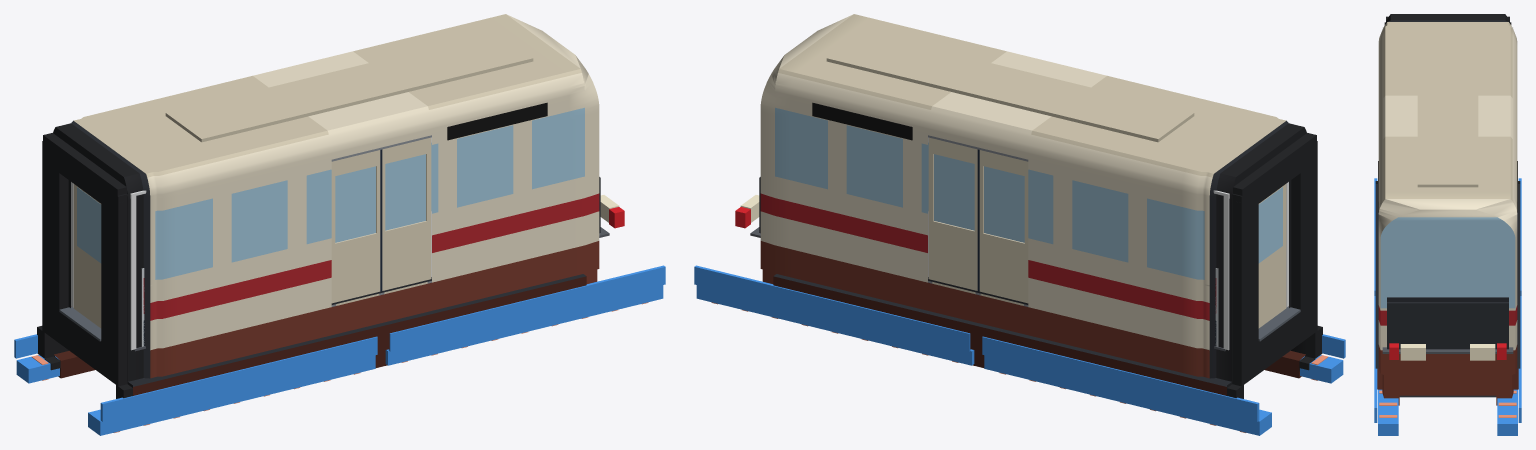
Rendered from birmingham_front.obj.
The picture shows the model from 3 angles, left to right: view 1: azimuth 30°, elevation 25°; view 2: azimuth 150°, elevation 25°; view 3: azimuth 270°, elevation 25°; orthographic projection. The views are drawn at different scales.
Visible parts, largest first — view 1: SHELL, SHELL_diaphragm, SHELL_roof, BOGEY_REAR, BOGEY_FRONT, EXTERNAL_DOOR_3_CG_DR1_TOGGLE_TL_-0.74_X, EXTERNAL_DOOR_4_CG_DR1_TOGGLE_TL_0.74_X, CONNECTING_DOOR_1_CG_CR_TOGGLE_TL_0.98_Z, SHELL_end, SHELL_sign; view 2: SHELL, SHELL_diaphragm, SHELL_roof, BOGEY_REAR, BOGEY_FRONT, EXTERNAL_DOOR_6_CG_DL1_TOGGLE_TL_-0.74_X, EXTERNAL_DOOR_7_CG_DL1_TOGGLE_TL_0.74_X, CONNECTING_DOOR_1_CG_CR_TOGGLE_TL_0.98_Z, SHELL_end, SHELL_sign; view 3: SHELL, SHELL_roof, SHELL_desk, BOGEY_FRONT, HEADLIGHT_1, BOGEY_REAR, SHELL_lights, SHELL_floor.
Boxes of the visible parts, x1=… form: SHELL: x1=53, y1=14, x2=599, y2=395; SHELL_diaphragm: x1=37, y1=133, x2=132, y2=398; SHELL_roof: x1=165, y1=32, x2=533, y2=142; BOGEY_REAR: x1=14, y1=334, x2=377, y2=435; BOGEY_FRONT: x1=385, y1=265, x2=665, y2=365; EXTERNAL_DOOR_3_CG_DR1_TOGGLE_TL_-0.74_X: x1=331, y1=149, x2=382, y2=303; EXTERNAL_DOOR_4_CG_DR1_TOGGLE_TL_0.74_X: x1=382, y1=137, x2=431, y2=290; CONNECTING_DOOR_1_CG_CR_TOGGLE_TL_0.98_Z: x1=73, y1=184, x2=101, y2=328; SHELL_end: x1=71, y1=182, x2=136, y2=350; SHELL_sign: x1=447, y1=102, x2=547, y2=140; SHELL: x1=760, y1=14, x2=1306, y2=395; SHELL_diaphragm: x1=1227, y1=133, x2=1322, y2=398; SHELL_roof: x1=826, y1=32, x2=1194, y2=142; BOGEY_REAR: x1=982, y1=334, x2=1345, y2=435; BOGEY_FRONT: x1=694, y1=265, x2=974, y2=365; EXTERNAL_DOOR_6_CG_DL1_TOGGLE_TL_-0.74_X: x1=977, y1=149, x2=1028, y2=303; EXTERNAL_DOOR_7_CG_DL1_TOGGLE_TL_0.74_X: x1=928, y1=137, x2=977, y2=290; CONNECTING_DOOR_1_CG_CR_TOGGLE_TL_0.98_Z: x1=1258, y1=184, x2=1286, y2=328; SHELL_end: x1=1223, y1=182, x2=1288, y2=350; SHELL_sign: x1=812, y1=102, x2=912, y2=140; SHELL: x1=1375, y1=14, x2=1520, y2=405; SHELL_roof: x1=1417, y1=49, x2=1478, y2=187; SHELL_desk: x1=1387, y1=297, x2=1508, y2=349; BOGEY_FRONT: x1=1374, y1=296, x2=1521, y2=435; HEADLIGHT_1: x1=1400, y1=344, x2=1495, y2=360; BOGEY_REAR: x1=1374, y1=178, x2=1521, y2=295; SHELL_lights: x1=1389, y1=343, x2=1506, y2=359; SHELL_floor: x1=1382, y1=347, x2=1513, y2=352.
Size of the model in its own units: 9 by 3.83 by 2.44.
1 material, 1 textured.
